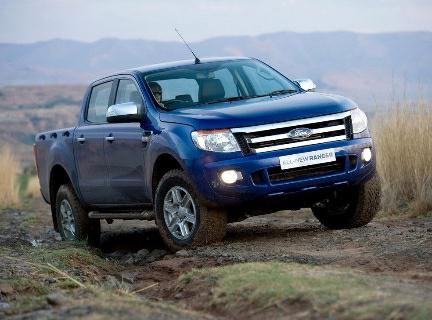福特-Ranger: (28, 52, 395, 250)
